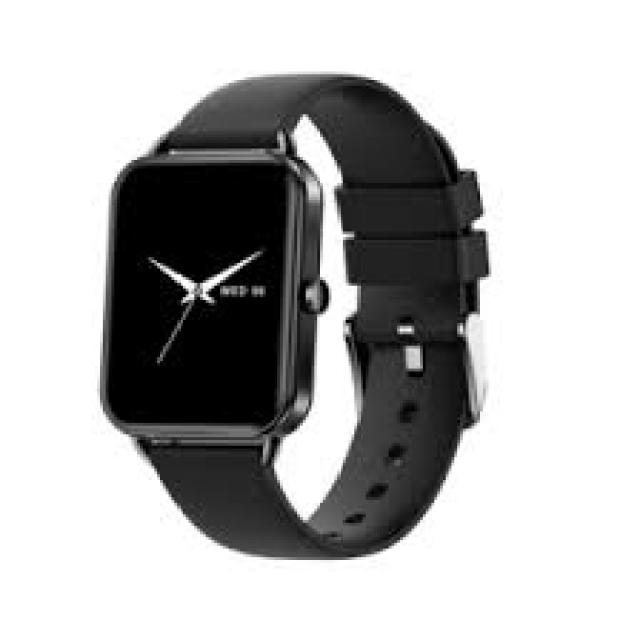objects: (103, 71, 489, 562)
